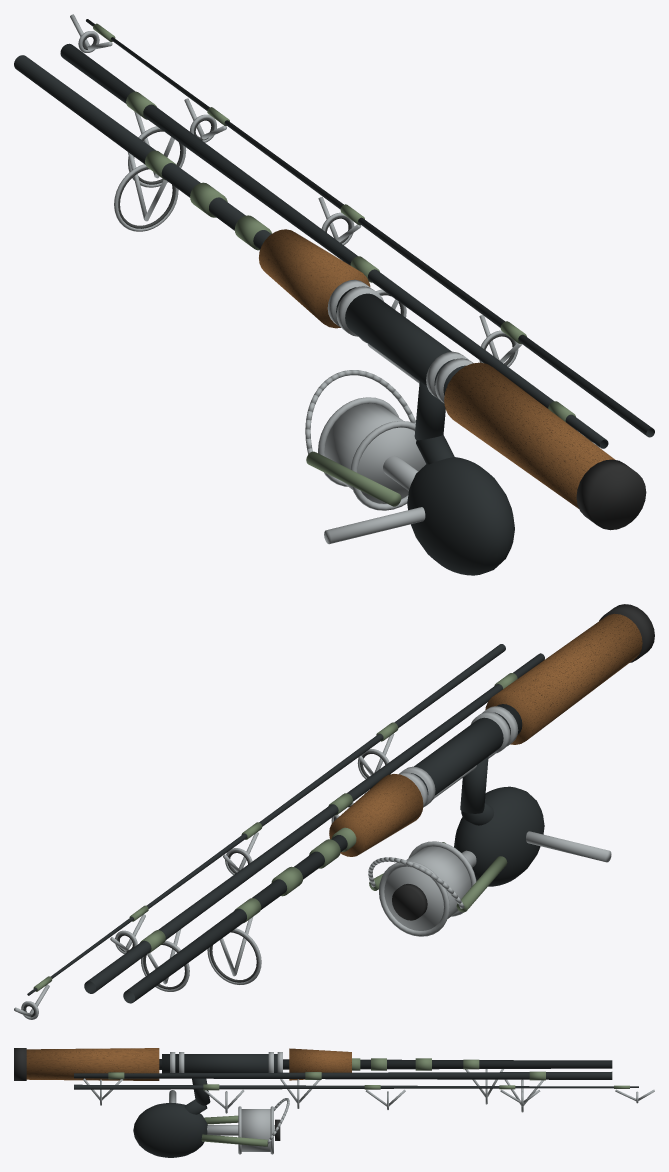
File: willow_folded.glb
3 renders of one model, top to bottom at view 1: azimuth 30°, elevation 25°; view 2: azimuth 150°, elevation 25°; view 3: azimuth 270°, elevation 25°, orthographic. The views are drawn at different scales.
Parts seen in each view (by area): view 1: Folded rod; view 2: Folded rod; view 3: Folded rod.
Part boxes in pixels (x1=…): Folded rod: x1=14, y1=14, x2=654, y2=575; Folded rod: x1=14, y1=604, x2=654, y2=1019; Folded rod: x1=14, y1=1048, x2=654, y2=1157.
Size of the model in its own units: 0.1577 by 0.1315 by 0.7147.
Materials: 7 (1 with a texture image).
